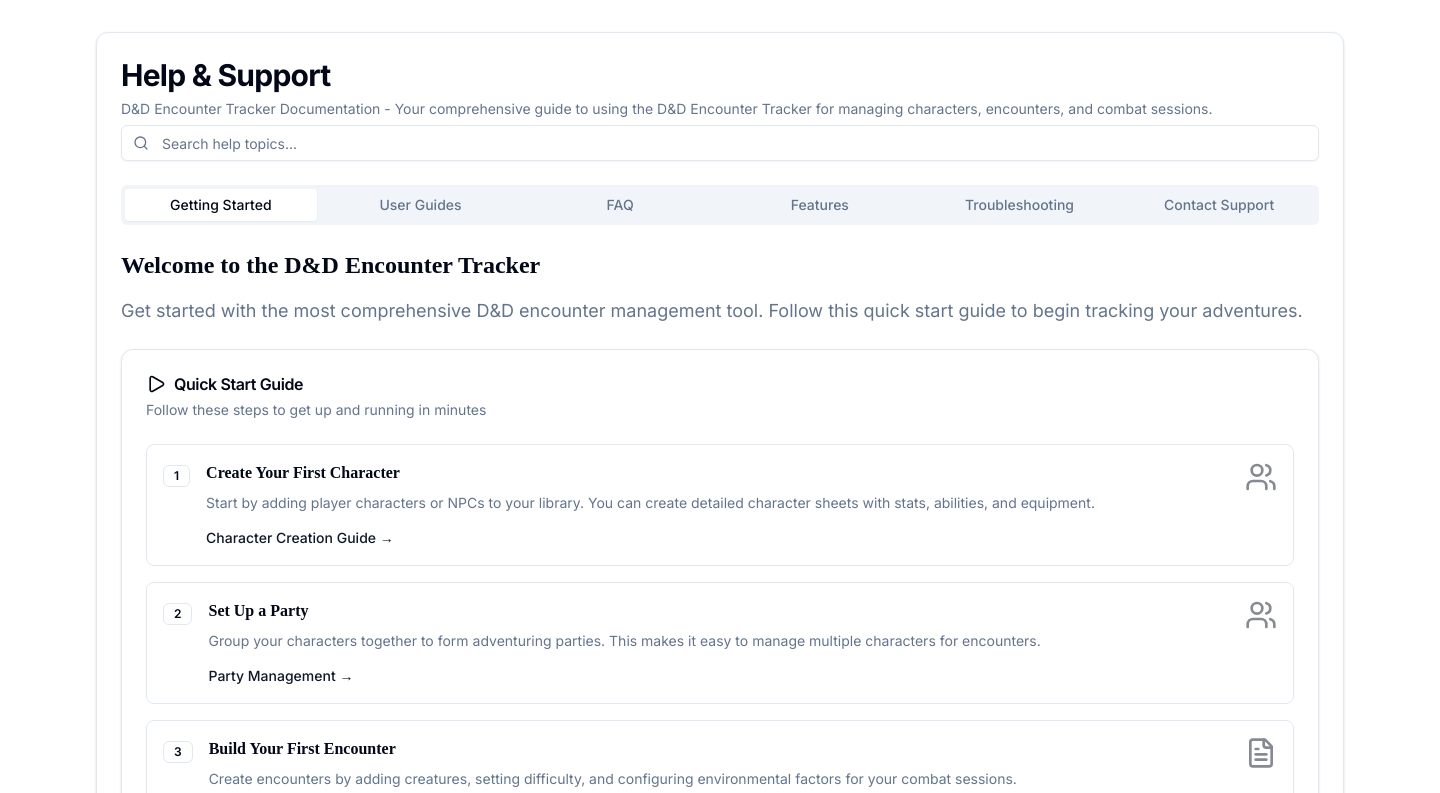
Test: HelpPage Component › Contact Support Section › displays contact information when tab is selected
The image size is (1440, 793).
Click the tab "Contact Support": (1219, 205) x1=1123 y1=189 x2=1315 y2=221
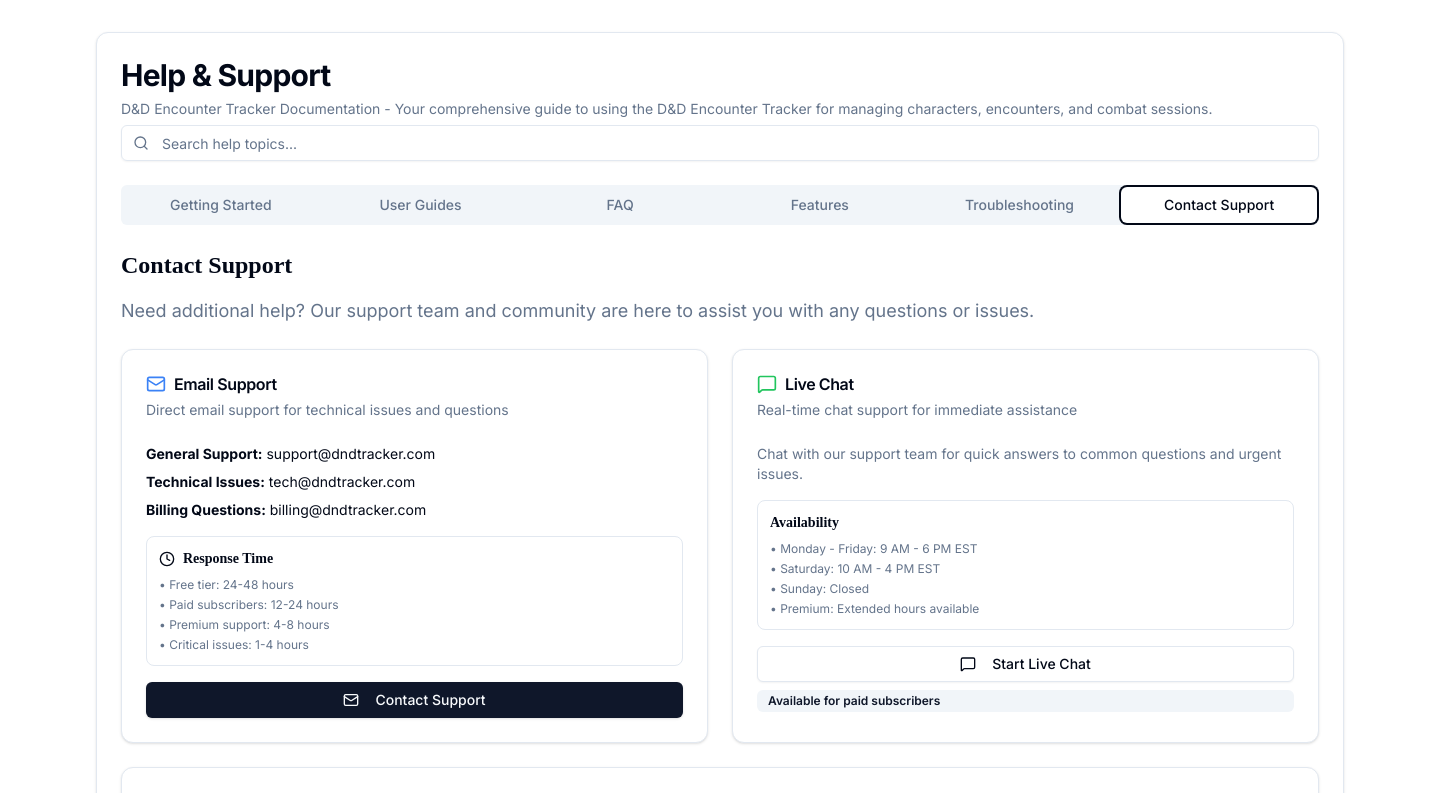
Expected: the number of tabs "Contact Support" is 3, x1=1123 y1=189 x2=1315 y2=221; x1=121 y1=252 x2=292 y2=278; x1=146 y1=682 x2=683 y2=718
Expected: the text "Need additional help" is shown, x1=121 y1=300 x2=1034 y2=321
Expected: the text "General Support: support@dndtracker.com" is shown, x1=146 y1=445 x2=435 y2=462
